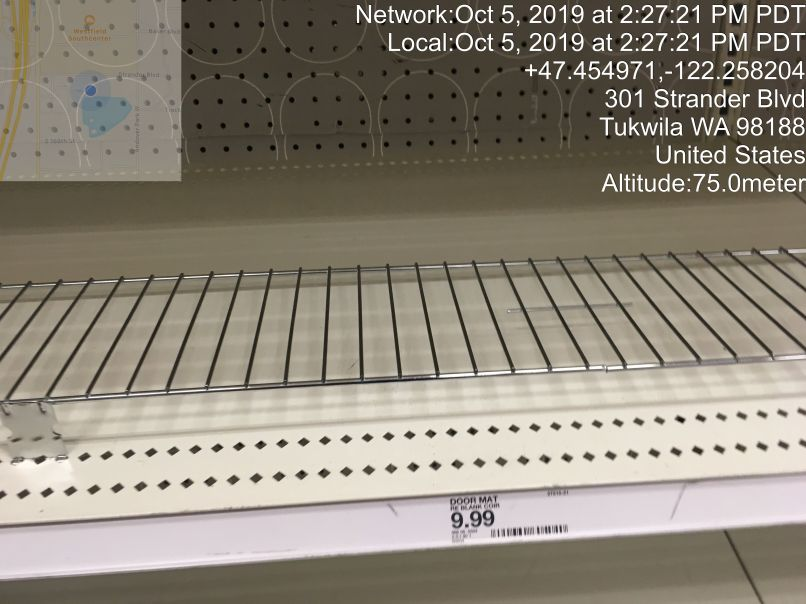Label: (439, 479, 599, 557)
Location: (593, 83, 806, 170)
Time: (352, 1, 806, 56)
Void: (12, 23, 806, 394)
